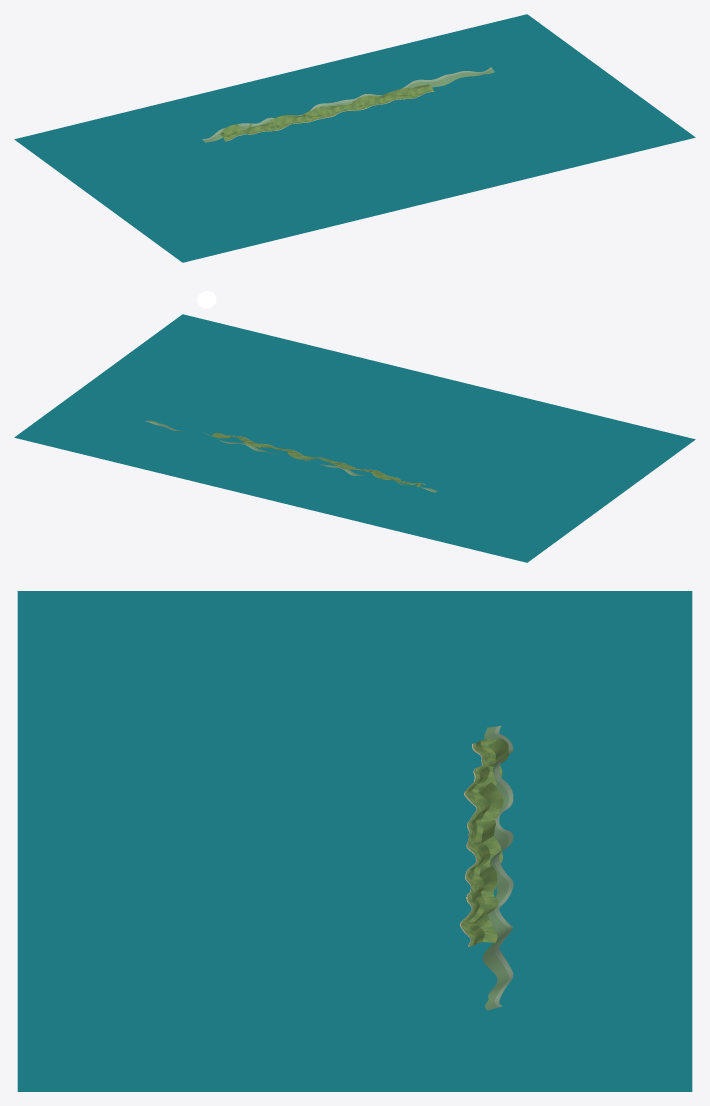
The model's file is bathsheba.glb.
3 views of the same model, one above another, from view 1: azimuth 30°, elevation 25°; view 2: azimuth 150°, elevation 25°; view 3: azimuth 270°, elevation 25° (orthographic). The views are drawn at different scales.
Visible parts, largest first — view 1: Sea, Peaks; view 2: Sea; view 3: Sea, Peaks.
Boxes of the visible parts, box(x1,y1,x2,y2) form: Sea: box(14, 14, 695, 262); Peaks: box(202, 67, 494, 142); Sea: box(14, 314, 695, 562); Sea: box(17, 591, 692, 1091); Peaks: box(482, 725, 513, 1010).
Size of the model in its own units: 26000 by 4542 by 14800.
